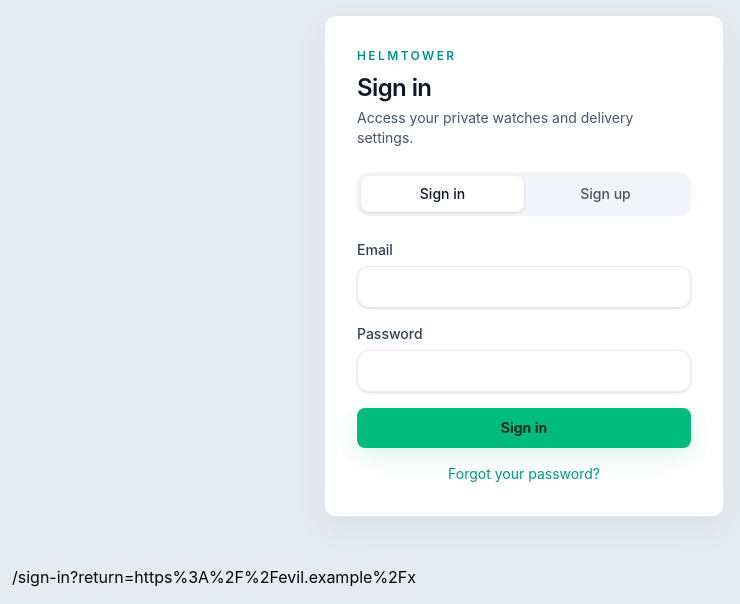
Test case: SignIn return navigation › falls back to /alerts when return is an open redirect
Type "user@example.com" into the field labelled "Email". click: (524, 287)
box: [357,266,691,308]
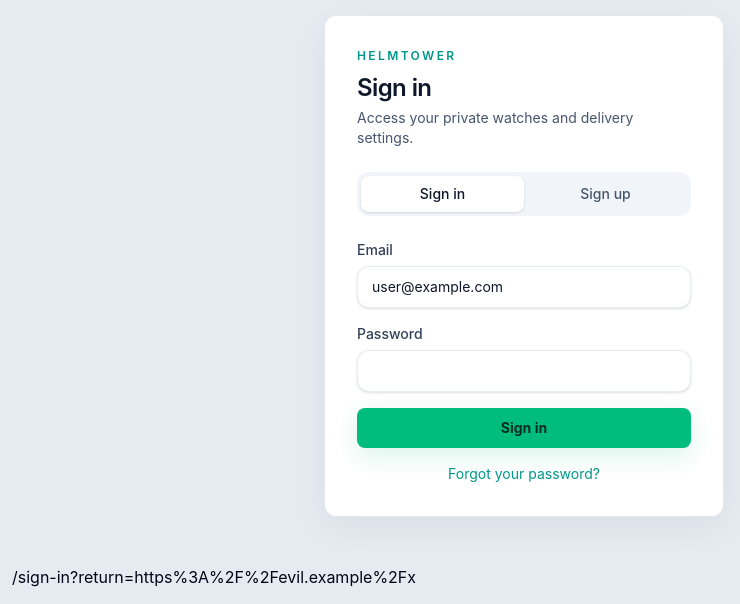
Type "password123" into the password field labelled "Password". click: (524, 371)
box: [357,350,691,392]
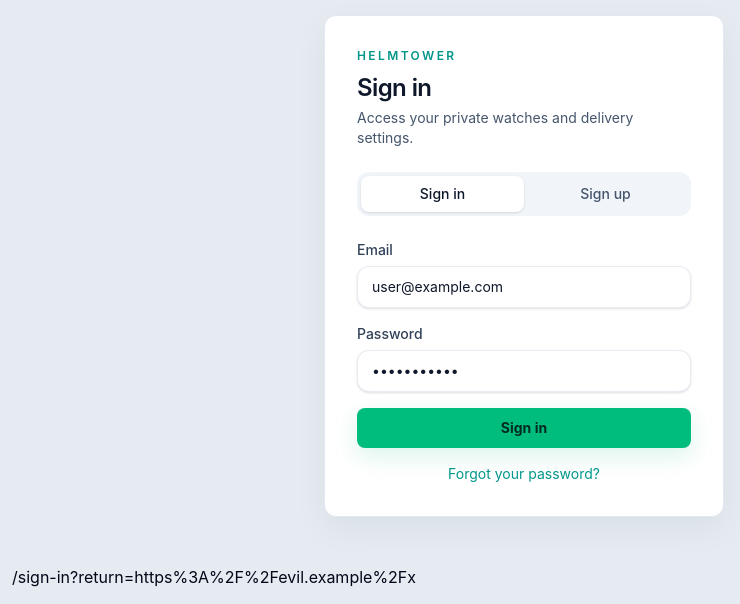
Submit the form named "Authentication form", box [357,240,691,484]
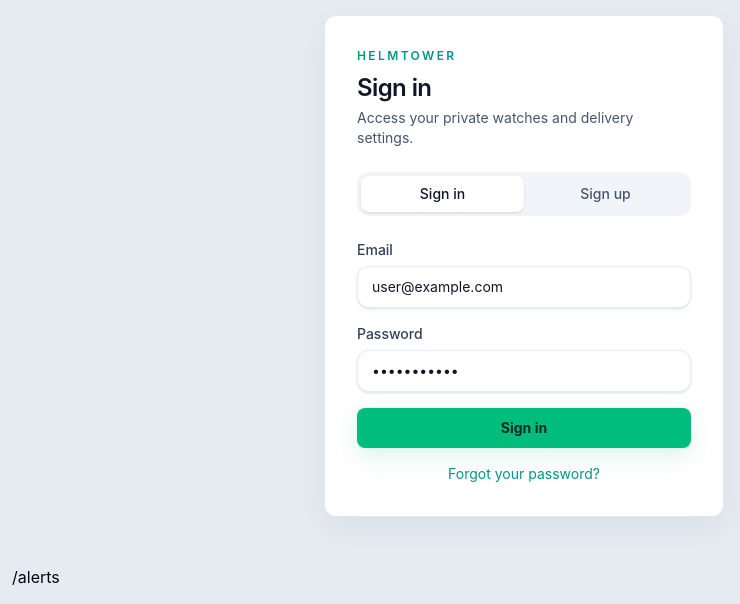
Check: the text with test id "location" reads "/alerts", box [12,567,60,587]
